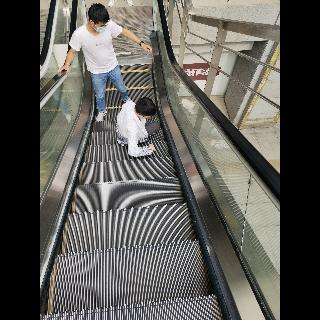anomaly: (114, 96, 170, 160)
normal: (65, 3, 135, 121)
